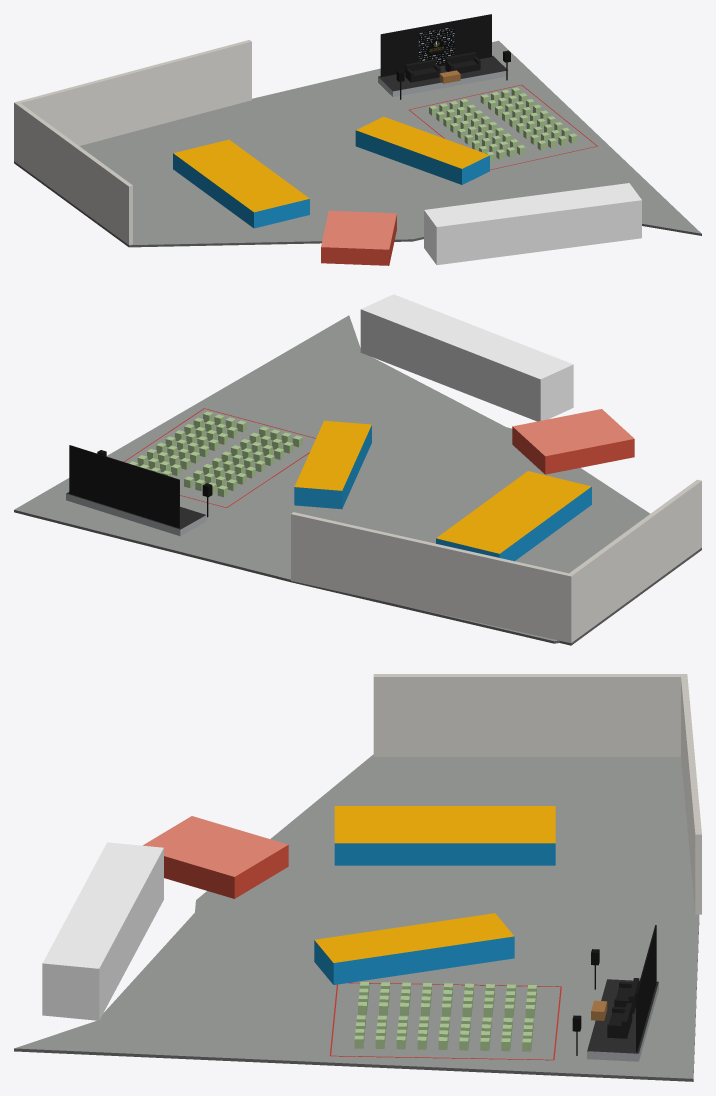
File: salle.glb
3 views of the same model, one above another, from view 1: azimuth 30°, elevation 25°; view 2: azimuth 150°, elevation 25°; view 3: azimuth 270°, elevation 25° (orthographic). The views are drawn at different scales.
Parts seen in each view (by area): view 1: sol, mur1, wc, mur0, banc1, banc2, accueil, bache, estrade, photocall; view 2: sol, mur1, wc, mur0, banc1, accueil, bache, banc2, estrade; view 3: sol, mur0, wc, banc1, banc2, accueil, mur1, estrade, bache.
Boxes of the visible parts, x1,y1,x2,y2 form: sol: (14, 40, 701, 247); mur1: (14, 40, 251, 145); wc: (424, 183, 641, 265); mur0: (14, 101, 132, 244); banc1: (173, 139, 309, 228); banc2: (355, 116, 489, 184); accueil: (321, 210, 396, 265); bache: (380, 14, 491, 76); estrade: (378, 55, 508, 97); photocall: (418, 26, 454, 64); sol: (14, 315, 701, 645); mur1: (291, 512, 571, 642); wc: (360, 294, 573, 421); mur0: (568, 479, 701, 642); banc1: (436, 471, 591, 561); accueil: (512, 409, 634, 474); bache: (69, 445, 179, 528); banc2: (294, 420, 371, 509); estrade: (66, 492, 206, 536); sol: (14, 754, 699, 1081); mur0: (373, 674, 687, 756); wc: (42, 842, 163, 1020); banc1: (334, 806, 555, 865); banc2: (314, 913, 514, 984); accueil: (143, 816, 288, 898); mur1: (681, 675, 701, 914); estrade: (587, 979, 658, 1061); bache: (636, 925, 656, 1052).
Bounding box in the file's own units: 34.77 × 4.15 × 31.14.
23 materials, 1 textured.
